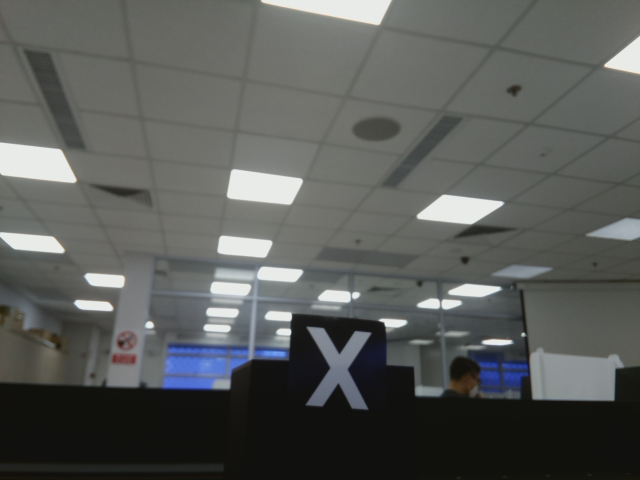x: (298, 322, 375, 414)
